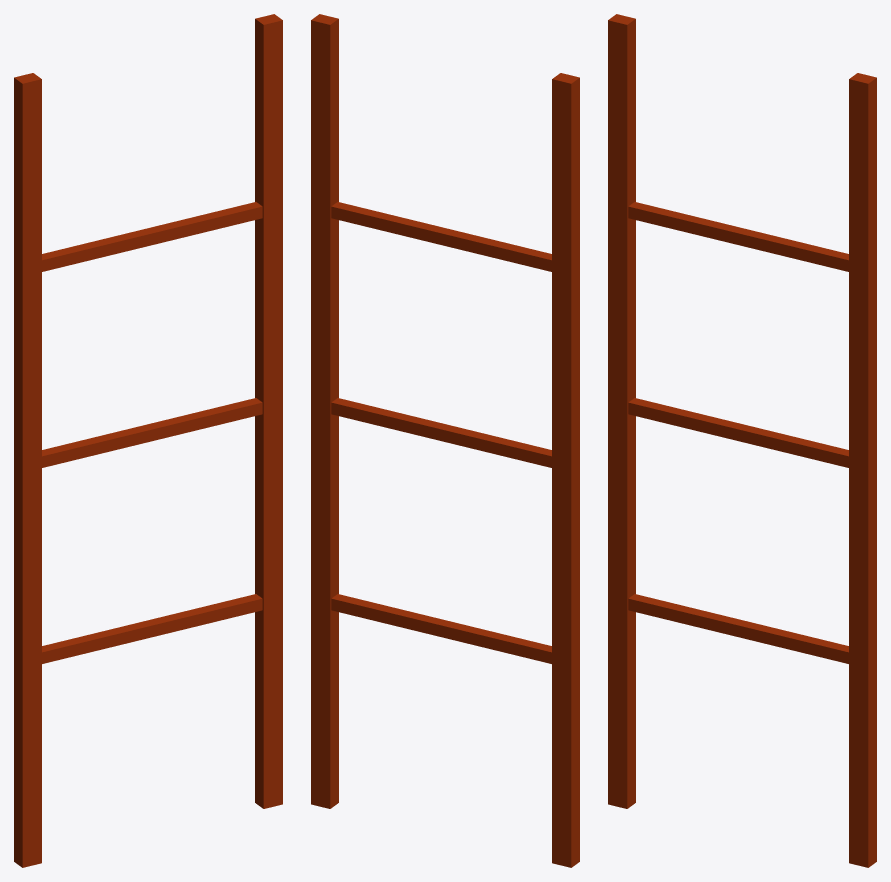
File: tangga.obj
The picture shows the model from 3 angles, left to right: view 1: azimuth 30°, elevation 25°; view 2: azimuth 150°, elevation 25°; view 3: azimuth 330°, elevation 25°; orthographic projection.
Parts seen in each view (by area): view 1: Plane; view 2: Plane; view 3: Plane.
Part boxes in pixels (x1,y1,x2,y2): Plane: (14, 14, 282, 867); Plane: (311, 14, 579, 867); Plane: (608, 14, 876, 867).
Size of the model in its own units: 1.4 by 4.04 by 0.08.
